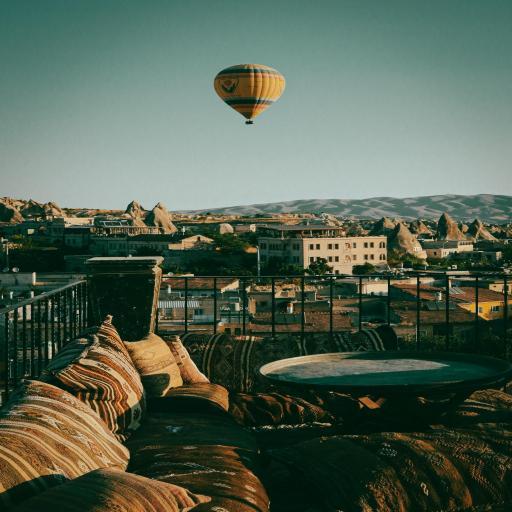hot air ballon: (213, 64, 286, 125)
